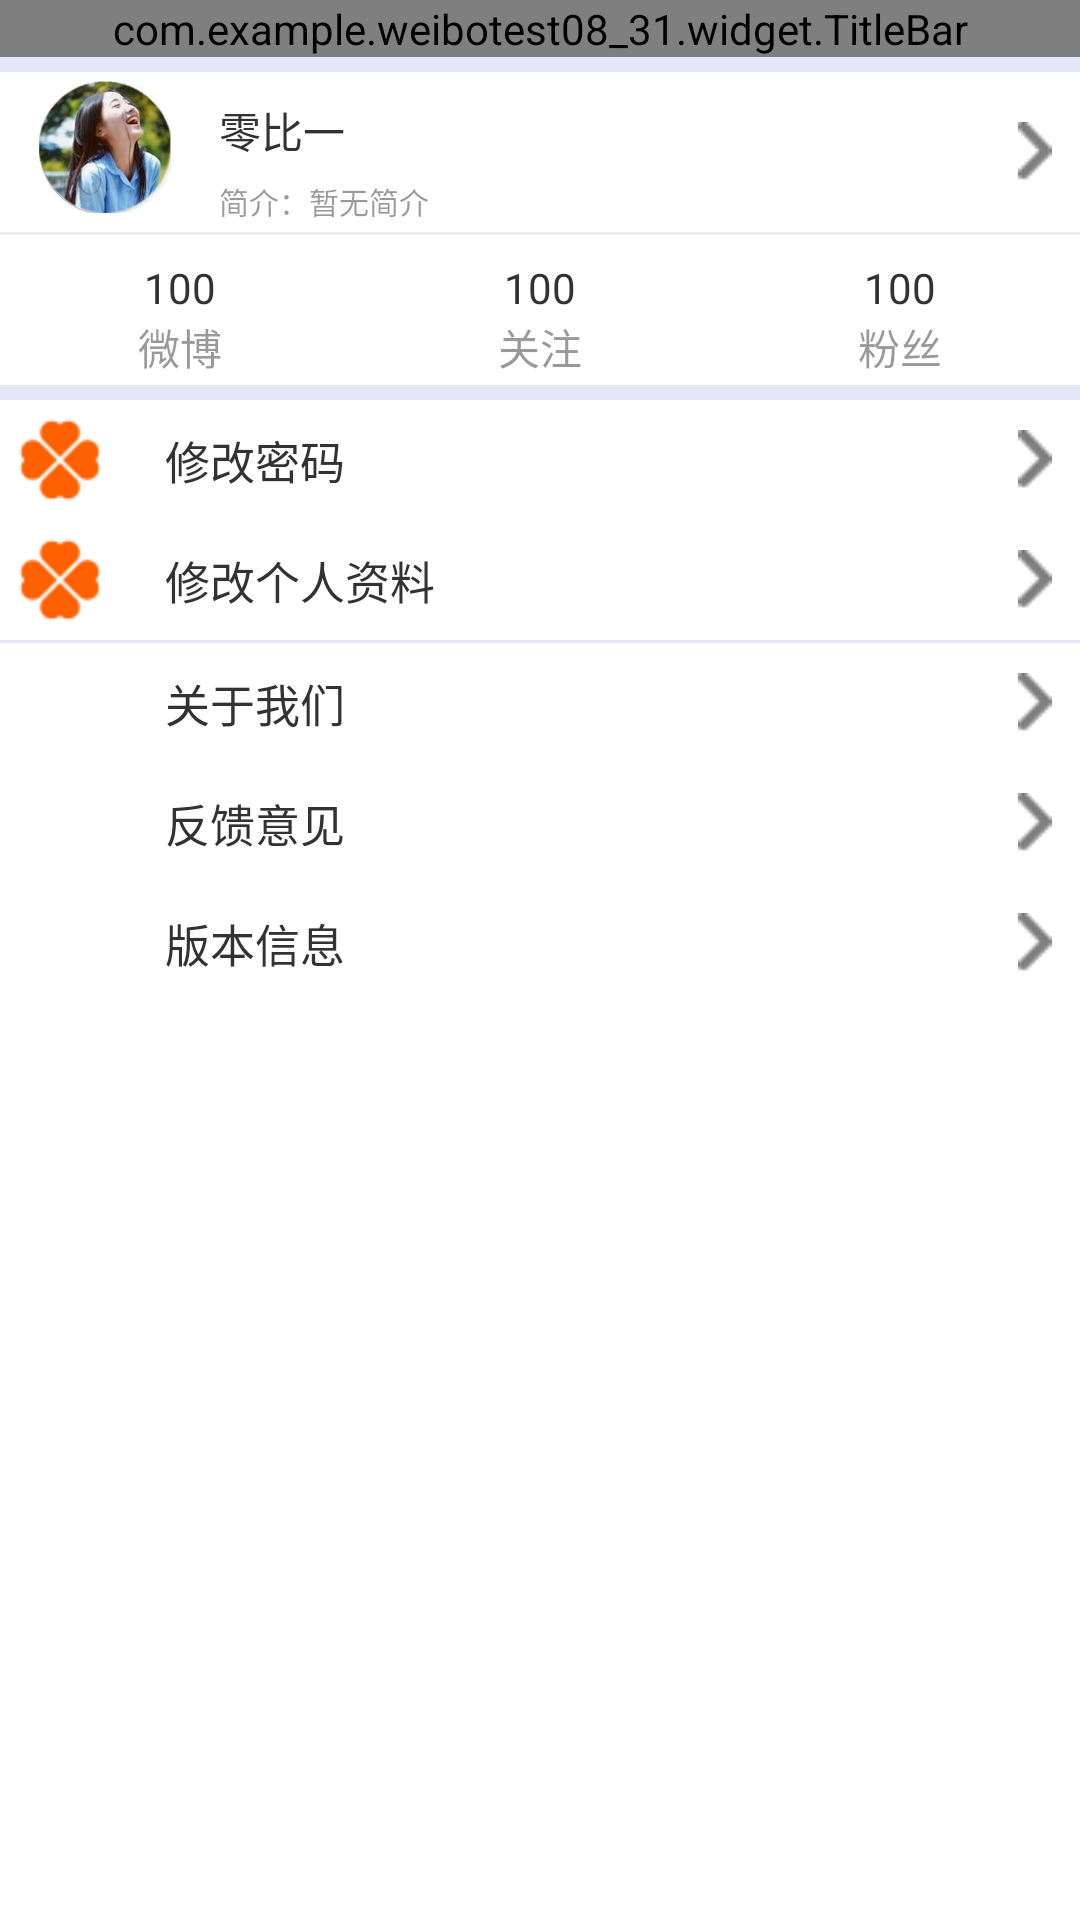

Icon bounding boxes for this 1080x1920 phone screenshot, format (x1, y1, x2, y2):
card arrow: (1018, 122, 1052, 180), (1018, 430, 1052, 488), (1018, 550, 1052, 608), (1018, 673, 1052, 731), (1018, 793, 1052, 851), (1018, 913, 1052, 971)
head: (39, 81, 171, 213)
